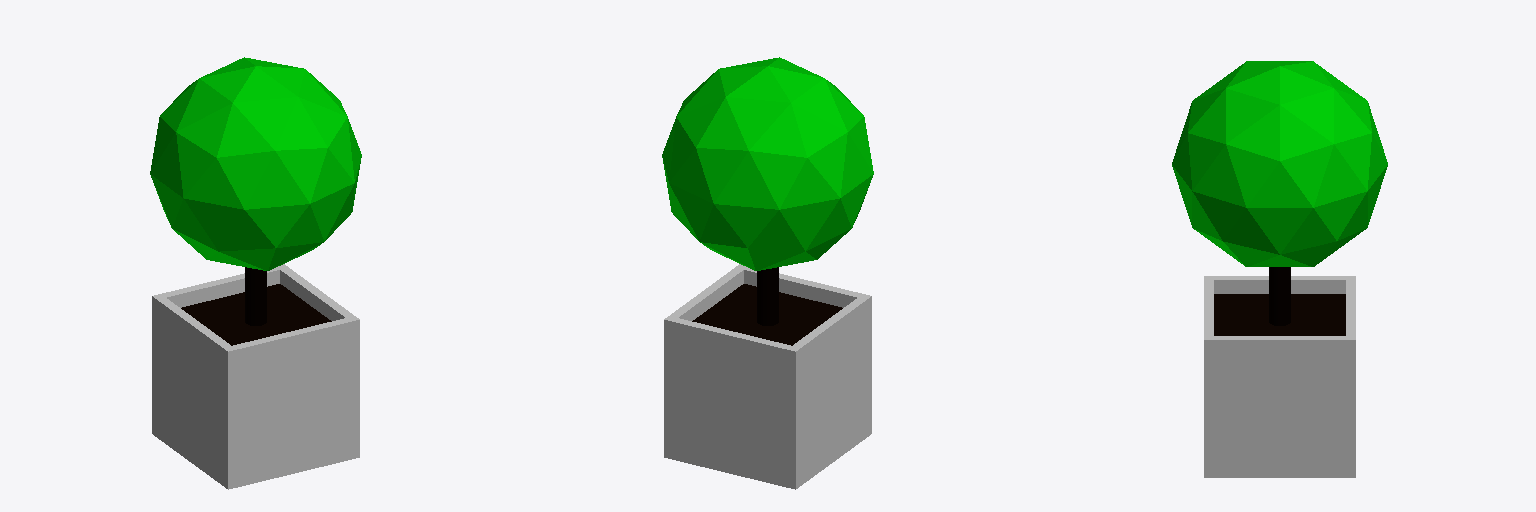
File: tree_pot.obj
3 renders of one model, left to right at view 1: azimuth 30°, elevation 25°; view 2: azimuth 150°, elevation 25°; view 3: azimuth 270°, elevation 25°, orthographic.
Visible parts, largest first — view 1: Cube; view 2: Cube; view 3: Cube.
Part boxes in pixels (x1,y1,x2,y2): Cube: (150, 57, 361, 489); Cube: (662, 57, 873, 489); Cube: (1172, 61, 1387, 477).
Size of the model in its own units: 1.9 by 3.87 by 2.